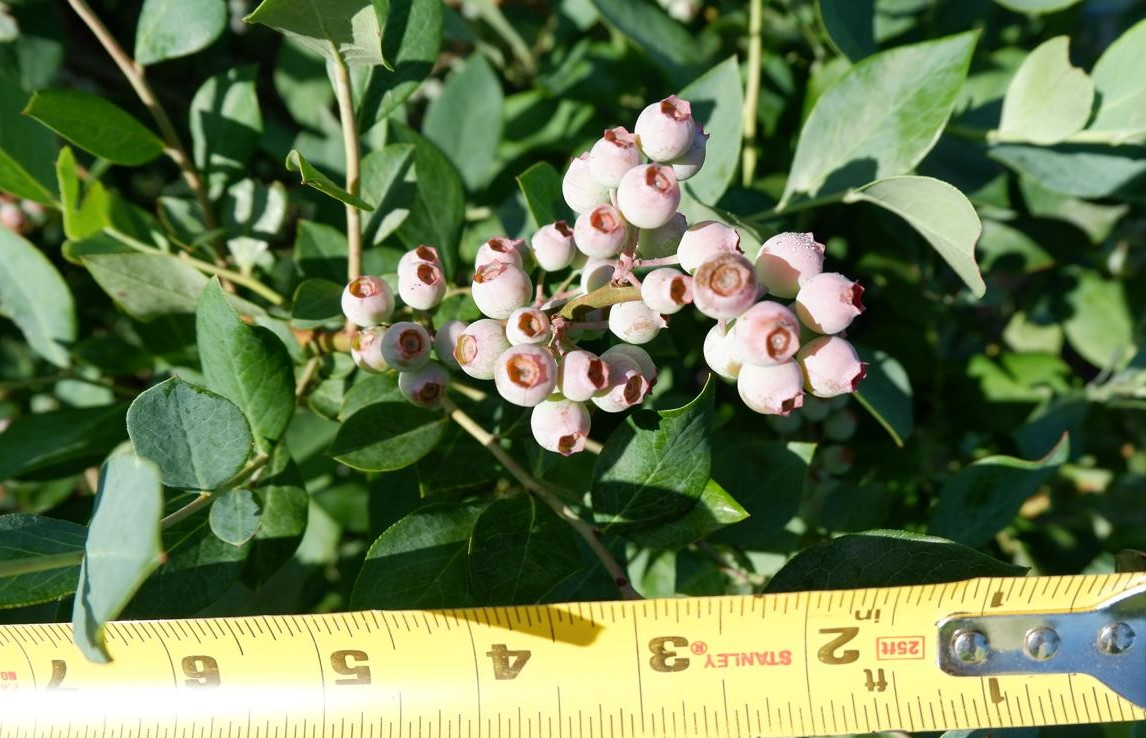Immature: (796, 335, 871, 398), (755, 232, 825, 299), (795, 272, 866, 335), (531, 384, 592, 457), (734, 300, 800, 367), (616, 162, 681, 229), (692, 253, 757, 319), (635, 94, 696, 163), (737, 356, 804, 418), (495, 344, 558, 406), (472, 258, 533, 321), (677, 221, 745, 276), (452, 319, 513, 380), (589, 351, 649, 413), (589, 125, 643, 189), (652, 122, 710, 180), (562, 151, 614, 214), (573, 203, 629, 259), (600, 343, 658, 395), (557, 350, 611, 402), (342, 276, 396, 327), (633, 212, 688, 260), (608, 301, 669, 344), (380, 321, 432, 371), (399, 359, 450, 408), (704, 318, 744, 379), (640, 268, 693, 314), (397, 262, 446, 311), (530, 220, 576, 272), (350, 321, 394, 374), (434, 320, 471, 370), (506, 307, 552, 346), (397, 245, 444, 280), (475, 238, 523, 272), (579, 261, 616, 294), (506, 239, 535, 277), (568, 246, 604, 274)
